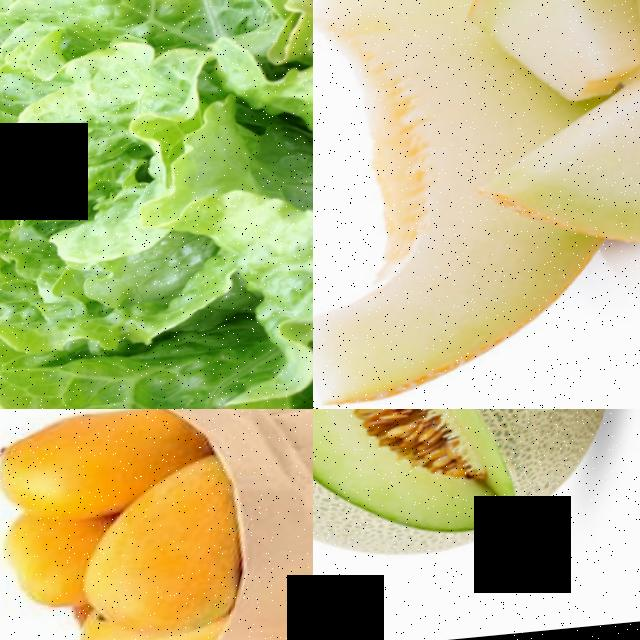lettuce: (0, 0, 313, 409)
mango: (83, 493, 259, 640), (0, 409, 179, 537)
melon: (313, 204, 617, 409), (313, 409, 630, 605), (313, 0, 506, 258), (313, 409, 442, 576)
